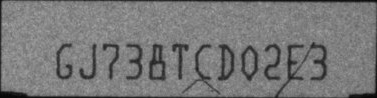2: (263, 43, 281, 81)
3: (125, 43, 144, 80), (309, 44, 328, 81)
7: (103, 42, 120, 80)
8: (147, 42, 165, 82)
C: (195, 42, 213, 81)
D: (218, 43, 236, 80)
E: (286, 43, 305, 80)
G: (54, 44, 74, 79)
J: (79, 42, 96, 80)
O: (240, 44, 259, 81)
T: (172, 42, 189, 79)
